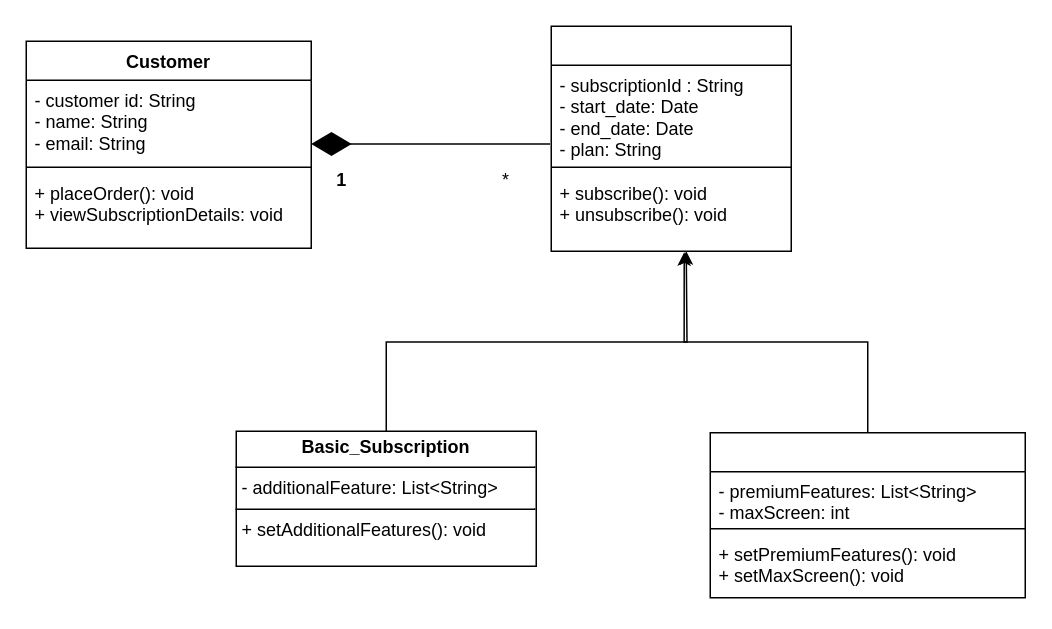
This 1052x629 diagram has some shape labels left out. The shapes that lost their labels are listed below. From the top down, each one's box as (x1, y1, x2, y2) in pixels, then its label:
(550, 25, 791, 251): OTT_Subscription
(709, 431, 1025, 598): Premium_Subscription
